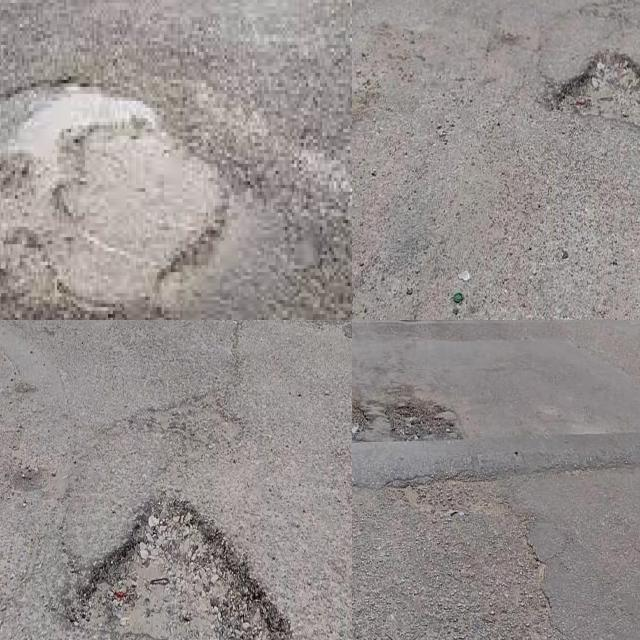Pothole: (0, 90, 218, 320), (48, 490, 294, 640), (560, 43, 640, 132), (390, 404, 455, 442)
